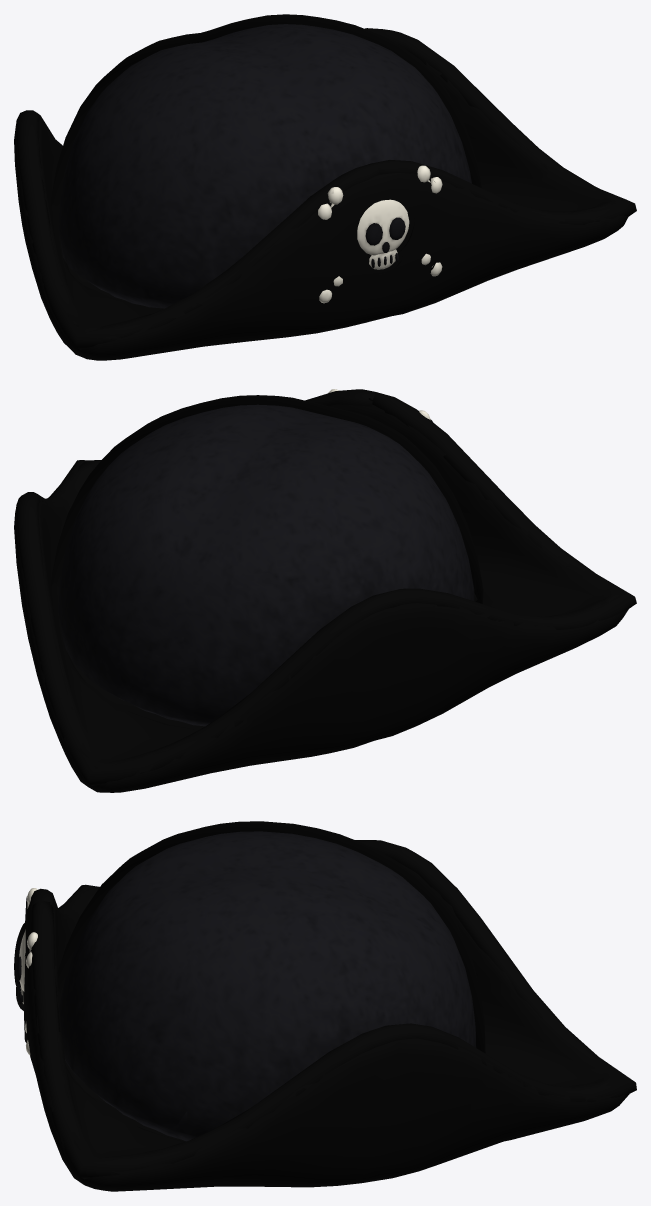
File: hat_tricorn_male_hi.glb
The picture shows the model from 3 angles, top to bottom: view 1: azimuth 30°, elevation 25°; view 2: azimuth 150°, elevation 25°; view 3: azimuth 270°, elevation 25°; orthographic projection. The views are drawn at different scales.
Visible parts, largest first — view 1: hat_tricorn_hi_v5_male; view 2: hat_tricorn_hi_v5_male; view 3: hat_tricorn_hi_v5_male.
Part boxes in pixels (left/top/right/bottom): hat_tricorn_hi_v5_male: left=14, top=14, right=636, bottom=360; hat_tricorn_hi_v5_male: left=14, top=389, right=636, bottom=792; hat_tricorn_hi_v5_male: left=14, top=821, right=636, bottom=1191.
Size of the model in its own units: 0.8808 by 0.3756 by 0.816.
1 material, 1 textured.
